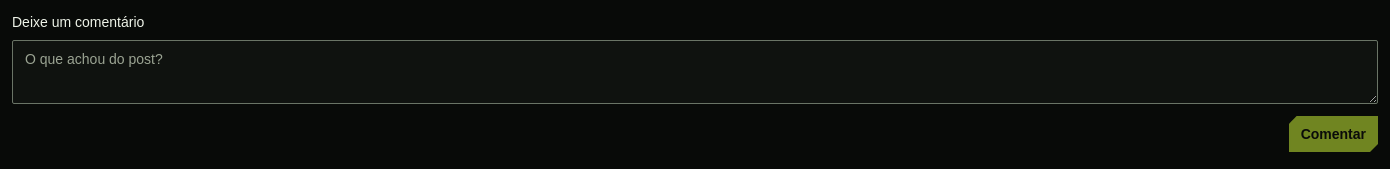
Test: <CommentForm /> › sucesso limpa e avisa o pai
Type "oi" into the text box labelled "Deixe um comentário". click: {"x": 695, "y": 72}
box: x1=12 y1=40 x2=1378 y2=104
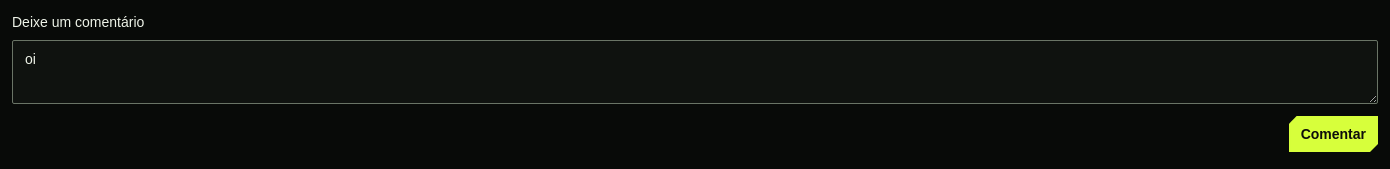
Click the button "Comentar". click: {"x": 1333, "y": 134}
box: x1=1289 y1=116 x2=1378 y2=152
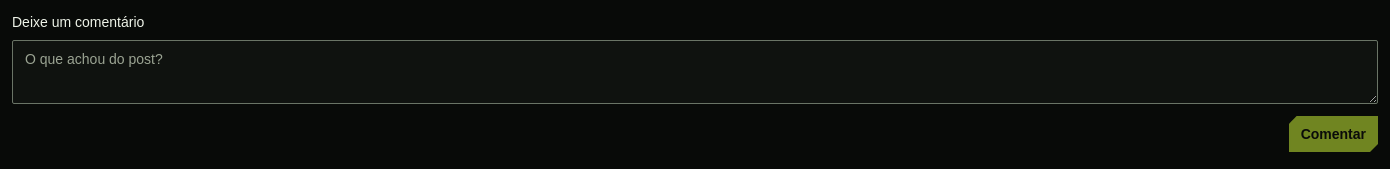
Result: the text box labelled "Deixe um comentário" is empty at x1=12 y1=40 x2=1378 y2=104
